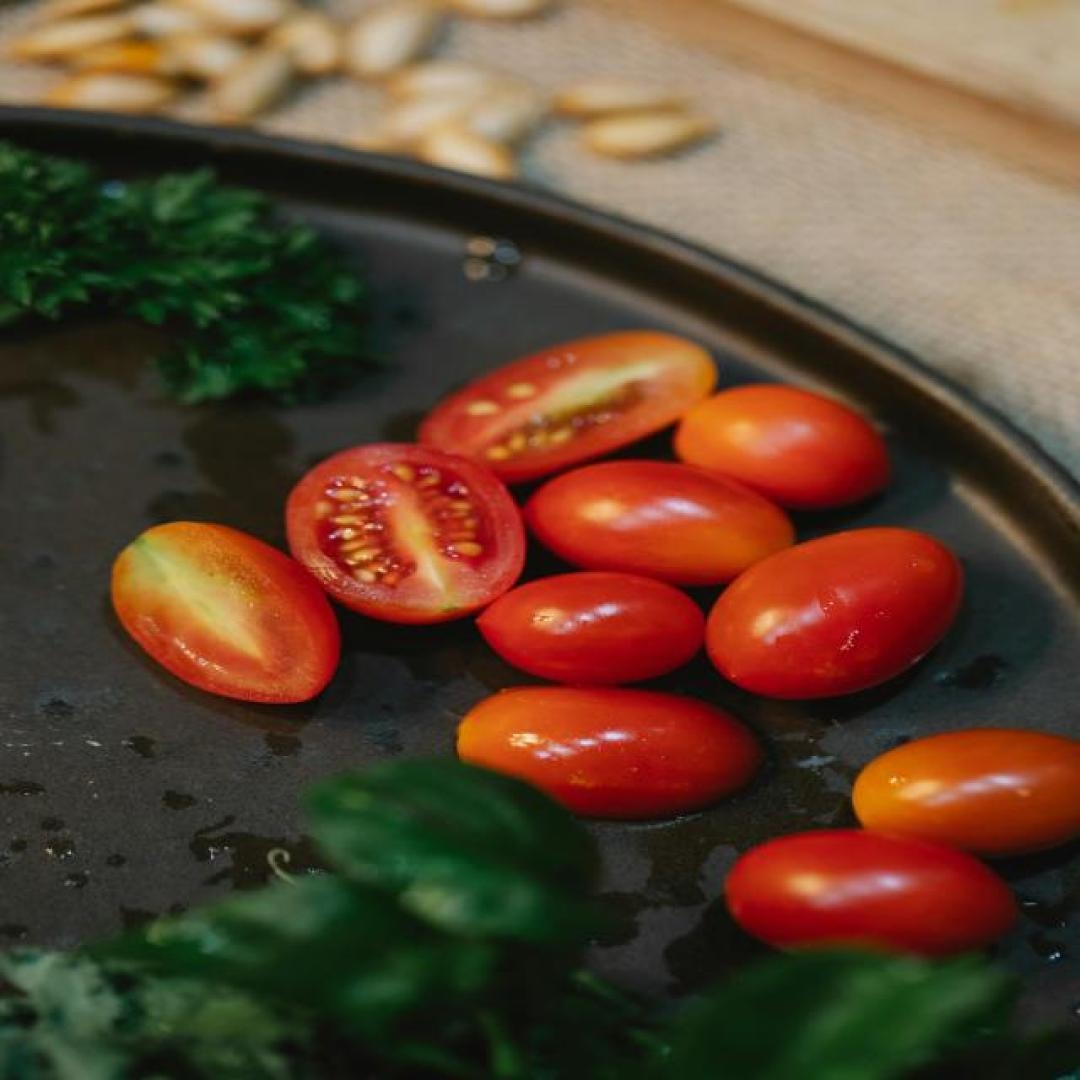matang: (108, 520, 344, 705), (707, 526, 962, 697), (285, 442, 528, 621), (455, 687, 764, 822), (726, 828, 1016, 970), (520, 462, 796, 589), (855, 729, 1080, 857), (677, 383, 889, 510)
